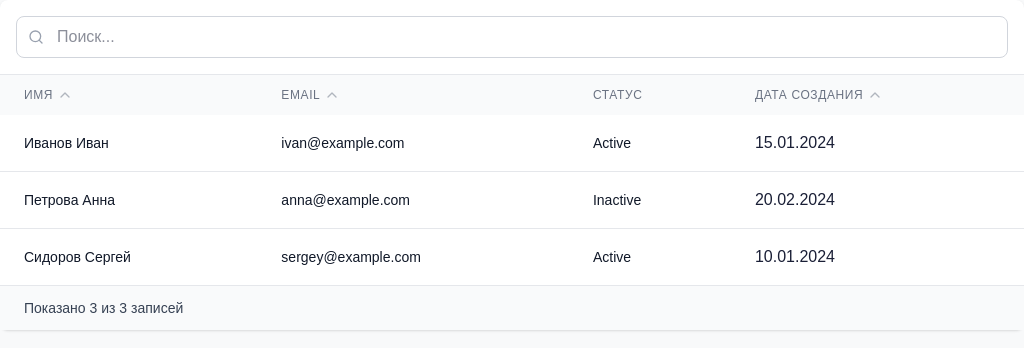
Test: DataTable Component › displays correct row count with search
Expected: the text "Показано 3 из 3 записей" is shown, [24,300,183,316]
Note: Применяем поиск
Type "example.com" into the field with placeholder "Поиск..." at (512, 37), box [16,16,1008,58]
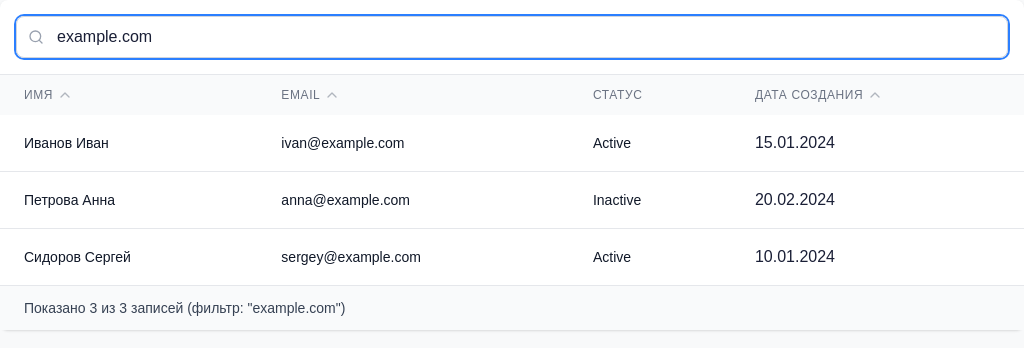
Result: the text "Показано 3 из 3 записей (фильтр: \"example.com\")" is shown at [24,300,345,316]
Note: Более специфичный поиск
Replace the text in the field with placeholder "Поиск..." with "ivan" at (512, 37), box [16,16,1008,58]
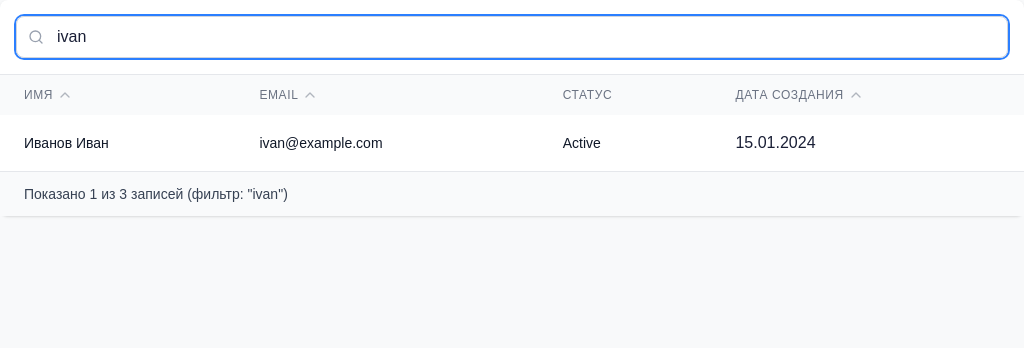
Result: the text "Показано 1 из 3 записей (фильтр: \"ivan\")" is shown at [24,186,288,202]
